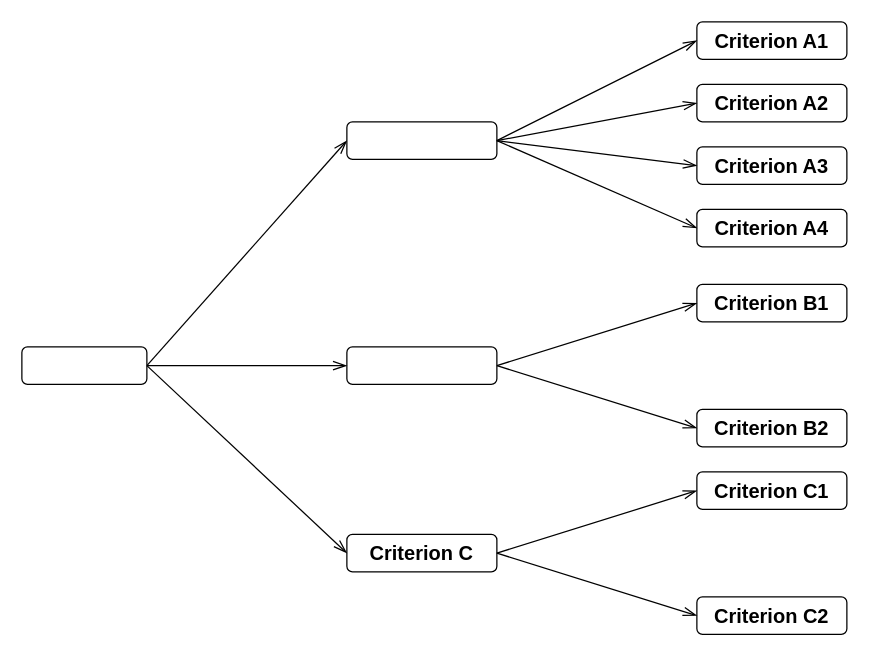
This 869x656 diagram has some shape labels left out. The centre of each missing label's shape, as x and y in pixels:
"Criterion A" goes at point (421, 140).
"Criterion B" goes at point (421, 365).
"Goal" goes at point (84, 365).
